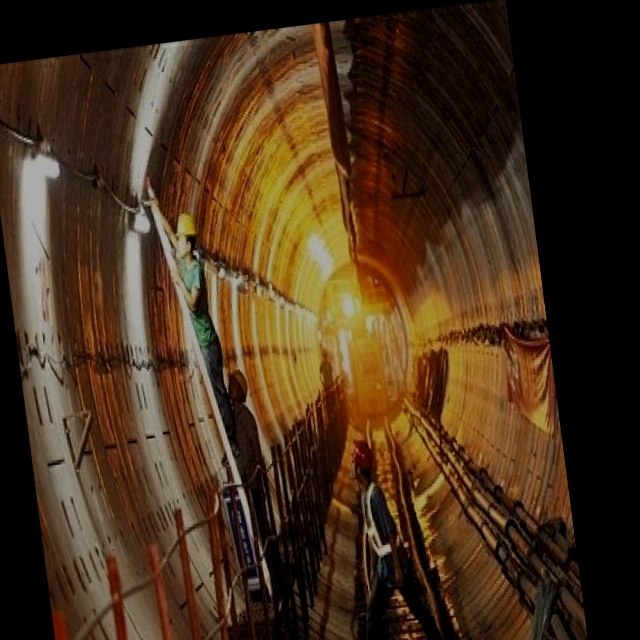Con_Casco: (225, 364, 250, 409), (174, 213, 199, 257), (352, 439, 376, 484)
